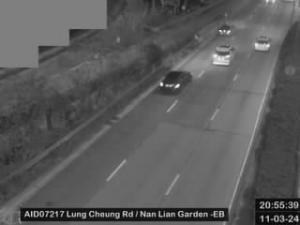vehicle: (159, 70, 193, 94), (212, 44, 236, 66), (254, 36, 270, 52), (216, 24, 232, 36)
